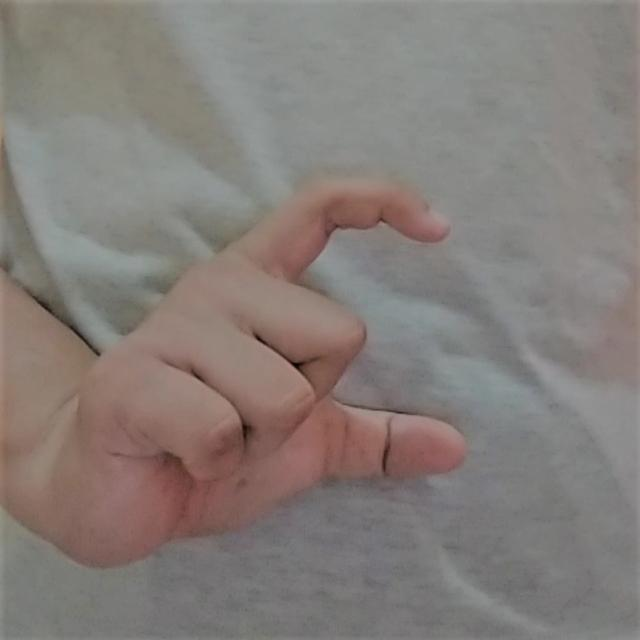C: (38, 159, 474, 581)
